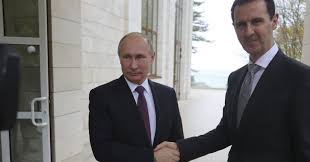middle_eastern_male: (231, 1, 282, 52)
